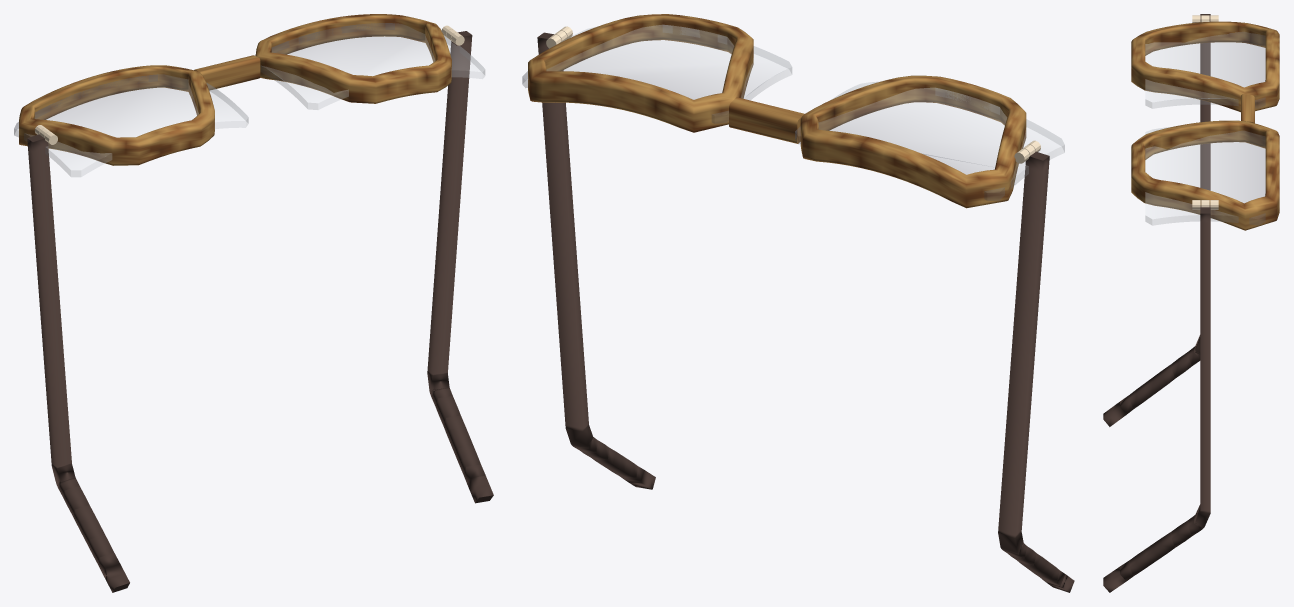
The model's file is aviator-tortoise.glb.
3 views of the same model, side by side, from view 1: azimuth 30°, elevation 25°; view 2: azimuth 150°, elevation 25°; view 3: azimuth 270°, elevation 25° (orthographic). The views are drawn at different scales.
Parts seen in each view (by area): view 1: MEL_eyewear_Frame, MEL_eyewear_TempleL, MEL_eyewear_TempleR, MEL_eyewear_LensL, MEL_eyewear_LensR; view 2: MEL_eyewear_Frame, MEL_eyewear_LensL, MEL_eyewear_TempleR, MEL_eyewear_TempleL, MEL_eyewear_LensR; view 3: MEL_eyewear_Frame, MEL_eyewear_LensR, MEL_eyewear_LensL, MEL_eyewear_TempleL, MEL_eyewear_TempleR.
Part boxes in pixels (bbox=[...]): MEL_eyewear_Frame: bbox=[19, 14, 464, 165]; MEL_eyewear_TempleL: bbox=[427, 31, 493, 503]; MEL_eyewear_TempleR: bbox=[27, 134, 129, 592]; MEL_eyewear_LensL: bbox=[14, 74, 248, 176]; MEL_eyewear_LensR: bbox=[255, 23, 485, 109]; MEL_eyewear_Frame: bbox=[528, 14, 1040, 208]; MEL_eyewear_LensL: bbox=[795, 81, 1064, 200]; MEL_eyewear_TempleR: bbox=[998, 151, 1074, 592]; MEL_eyewear_TempleL: bbox=[537, 32, 655, 489]; MEL_eyewear_LensR: bbox=[522, 24, 792, 123]; MEL_eyewear_Frame: bbox=[1131, 15, 1279, 230]; MEL_eyewear_LensR: bbox=[1145, 126, 1265, 225]; MEL_eyewear_LensL: bbox=[1145, 32, 1265, 108]; MEL_eyewear_TempleL: bbox=[1103, 206, 1210, 592]; MEL_eyewear_TempleR: bbox=[1103, 14, 1210, 426].
Bounding box in the file's own units: 0.1336 × 0.1274 × 0.0499.
